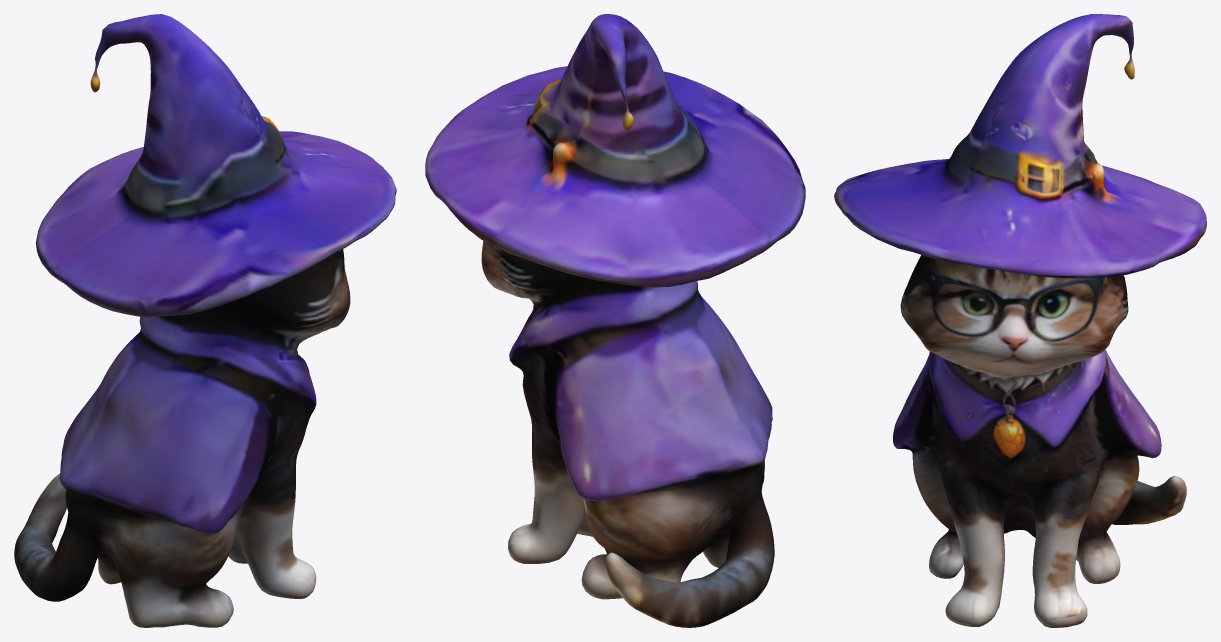
File: witchCat.fbx
3 views of the same model, side by side, from view 1: azimuth 30°, elevation 25°; view 2: azimuth 150°, elevation 25°; view 3: azimuth 270°, elevation 25° (orthographic). The views are drawn at different scales.
Parts seen in each view (by area): view 1: tripo_c1a74e94-f0e8-4bd5-8761-b4423a642ffc; view 2: tripo_c1a74e94-f0e8-4bd5-8761-b4423a642ffc; view 3: tripo_c1a74e94-f0e8-4bd5-8761-b4423a642ffc.
Part boxes in pixels (x1,y1,x2,y2): tripo_c1a74e94-f0e8-4bd5-8761-b4423a642ffc: (14,14,396,627); tripo_c1a74e94-f0e8-4bd5-8761-b4423a642ffc: (425,14,805,627); tripo_c1a74e94-f0e8-4bd5-8761-b4423a642ffc: (834,14,1206,627).
Bounding box in the file's own units: 53.28 × 88.89 × 53.19.
1 material, 1 textured.
